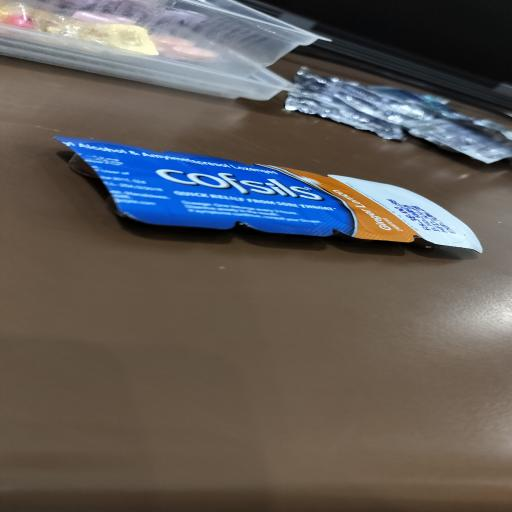cofsils: (146, 165, 330, 207)
medicine: (52, 131, 480, 257)
